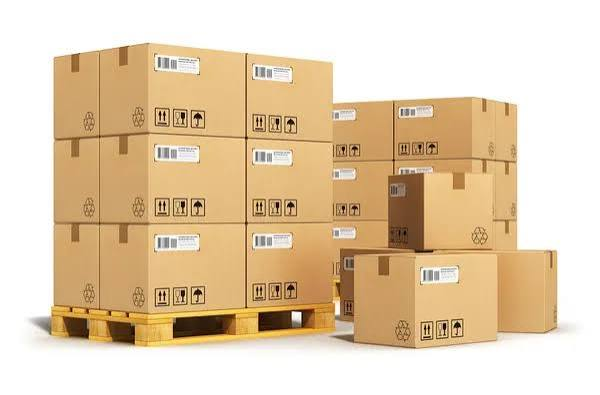box: (111, 44, 249, 136), (104, 138, 244, 227), (103, 224, 243, 312), (360, 257, 487, 339), (252, 223, 337, 307), (392, 176, 488, 247), (249, 137, 330, 220), (252, 50, 329, 136), (398, 101, 518, 156), (498, 248, 563, 325), (48, 219, 100, 301), (52, 139, 100, 221), (52, 54, 101, 134), (332, 102, 394, 159)
